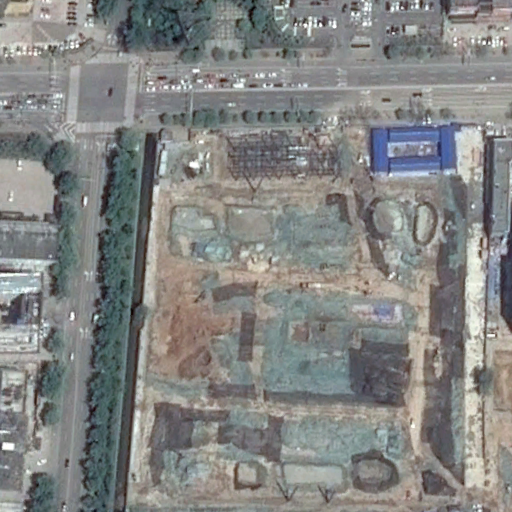cw: (140, 125, 470, 511)
